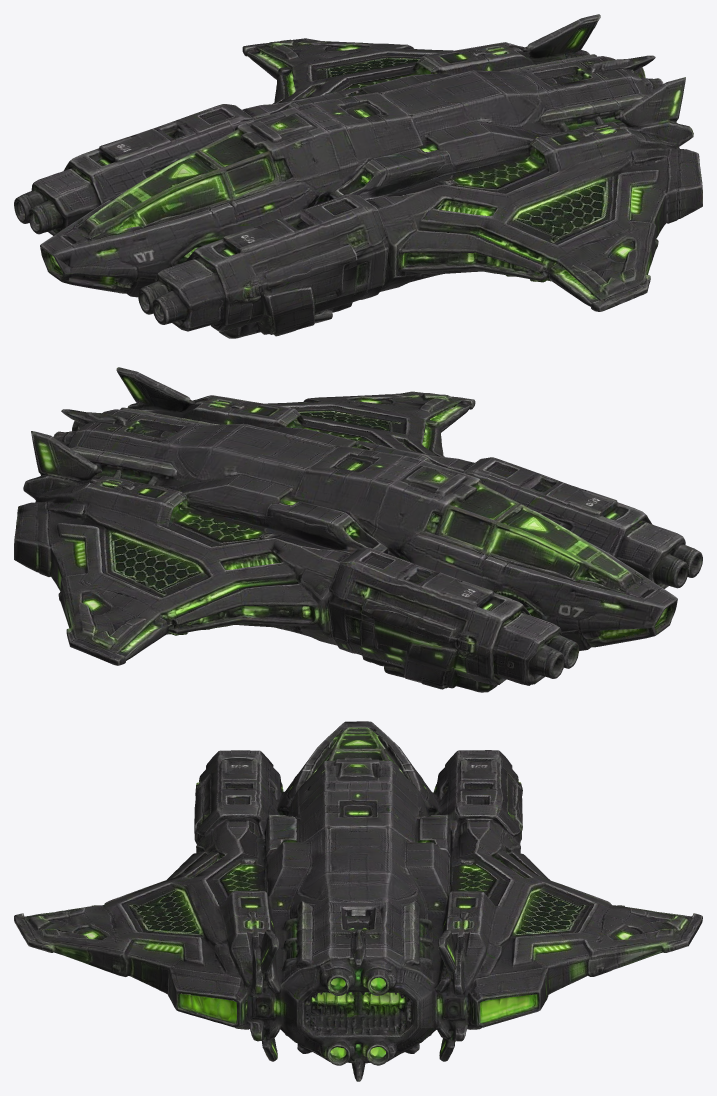
The model's file is slayer.glb.
3 renders of one model, top to bottom at view 1: azimuth 30°, elevation 25°; view 2: azimuth 150°, elevation 25°; view 3: azimuth 270°, elevation 25°, orthographic. The views are drawn at different scales.
Parts seen in each view (by area): view 1: mesh_0; view 2: mesh_0; view 3: mesh_0.
Part boxes in pixels (x1,y1,x2,y2): mesh_0: [14, 14, 702, 338]; mesh_0: [14, 367, 702, 692]; mesh_0: [14, 721, 702, 1081].
Bounding box in the file's own units: 1.87 × 0.4925 × 1.9.
Materials: 1 (1 with a texture image).
